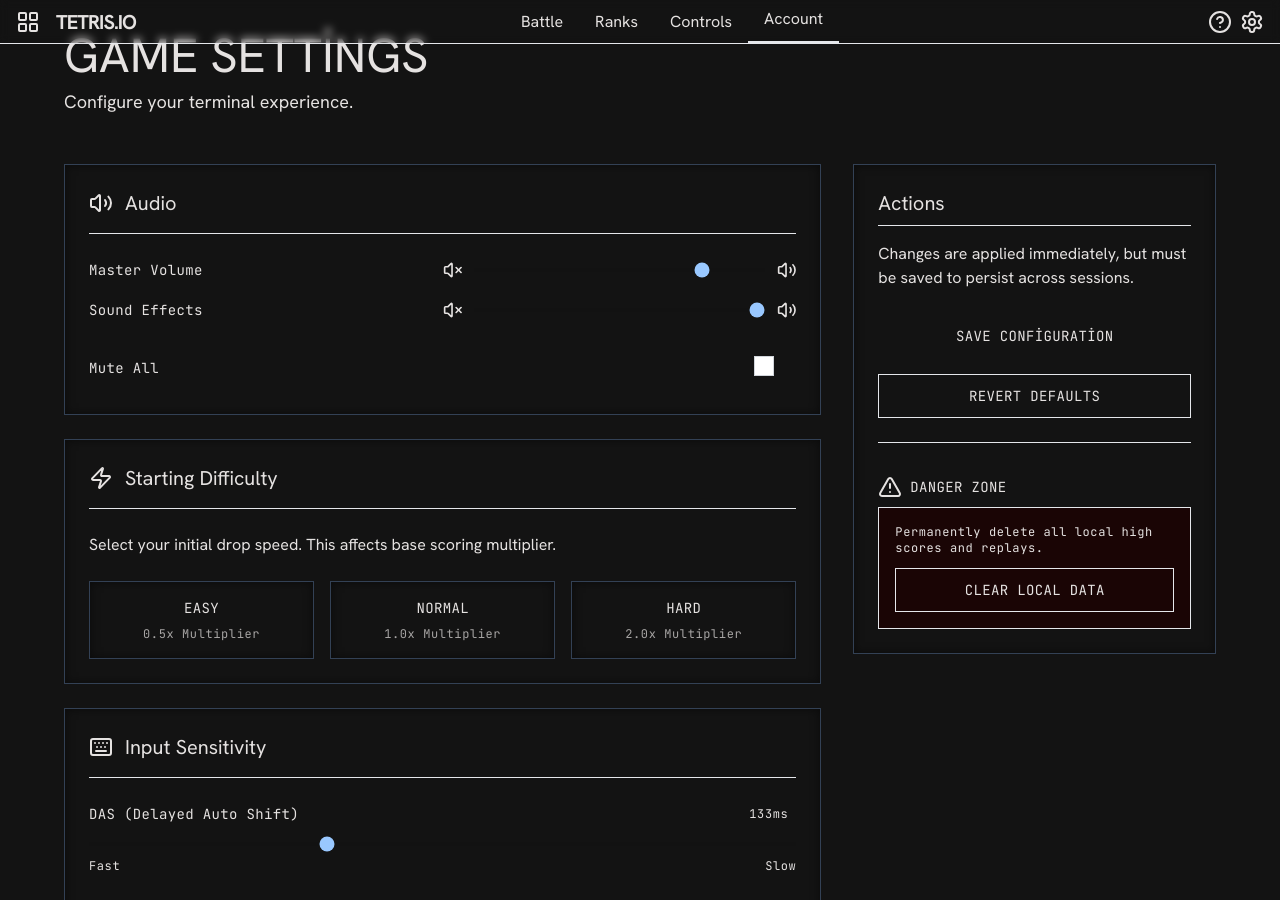
Test: GameOptions › shows validation error for invalid ARR value loaded from storage
This screenshot has width=1280, height=900.
Click the button "Save Configuration". click: (1035, 336)
box: [878,314,1191,358]
(page scrolled)
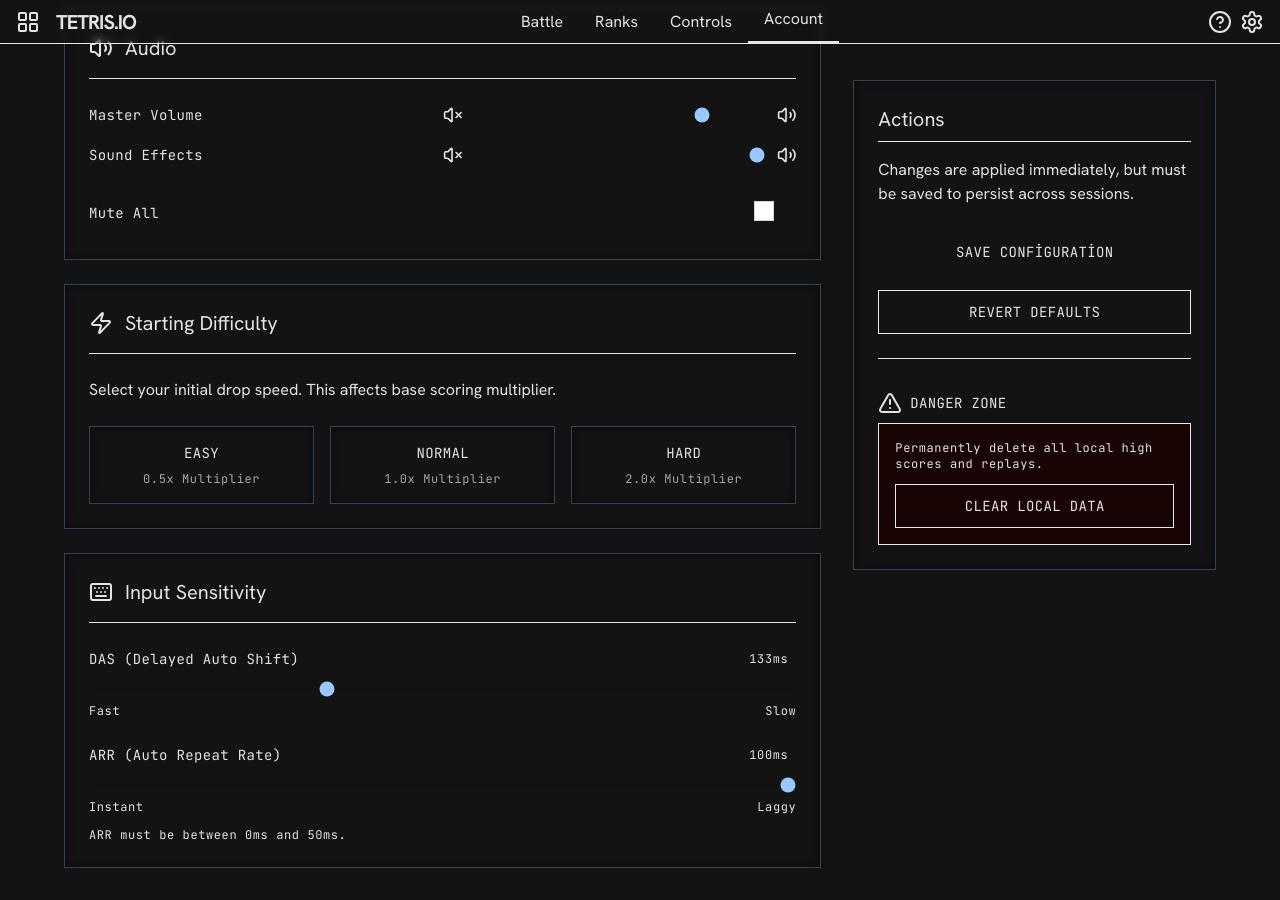
Now the text "ARR must be between 0ms and 50ms." is shown, box [89,827,346,843]
